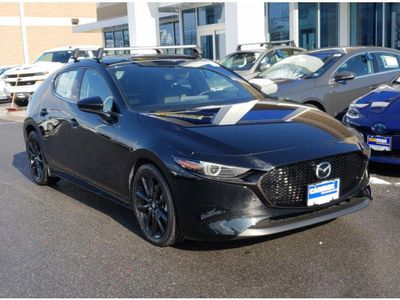Mazda3 Hatchback: (23, 44, 372, 248)
